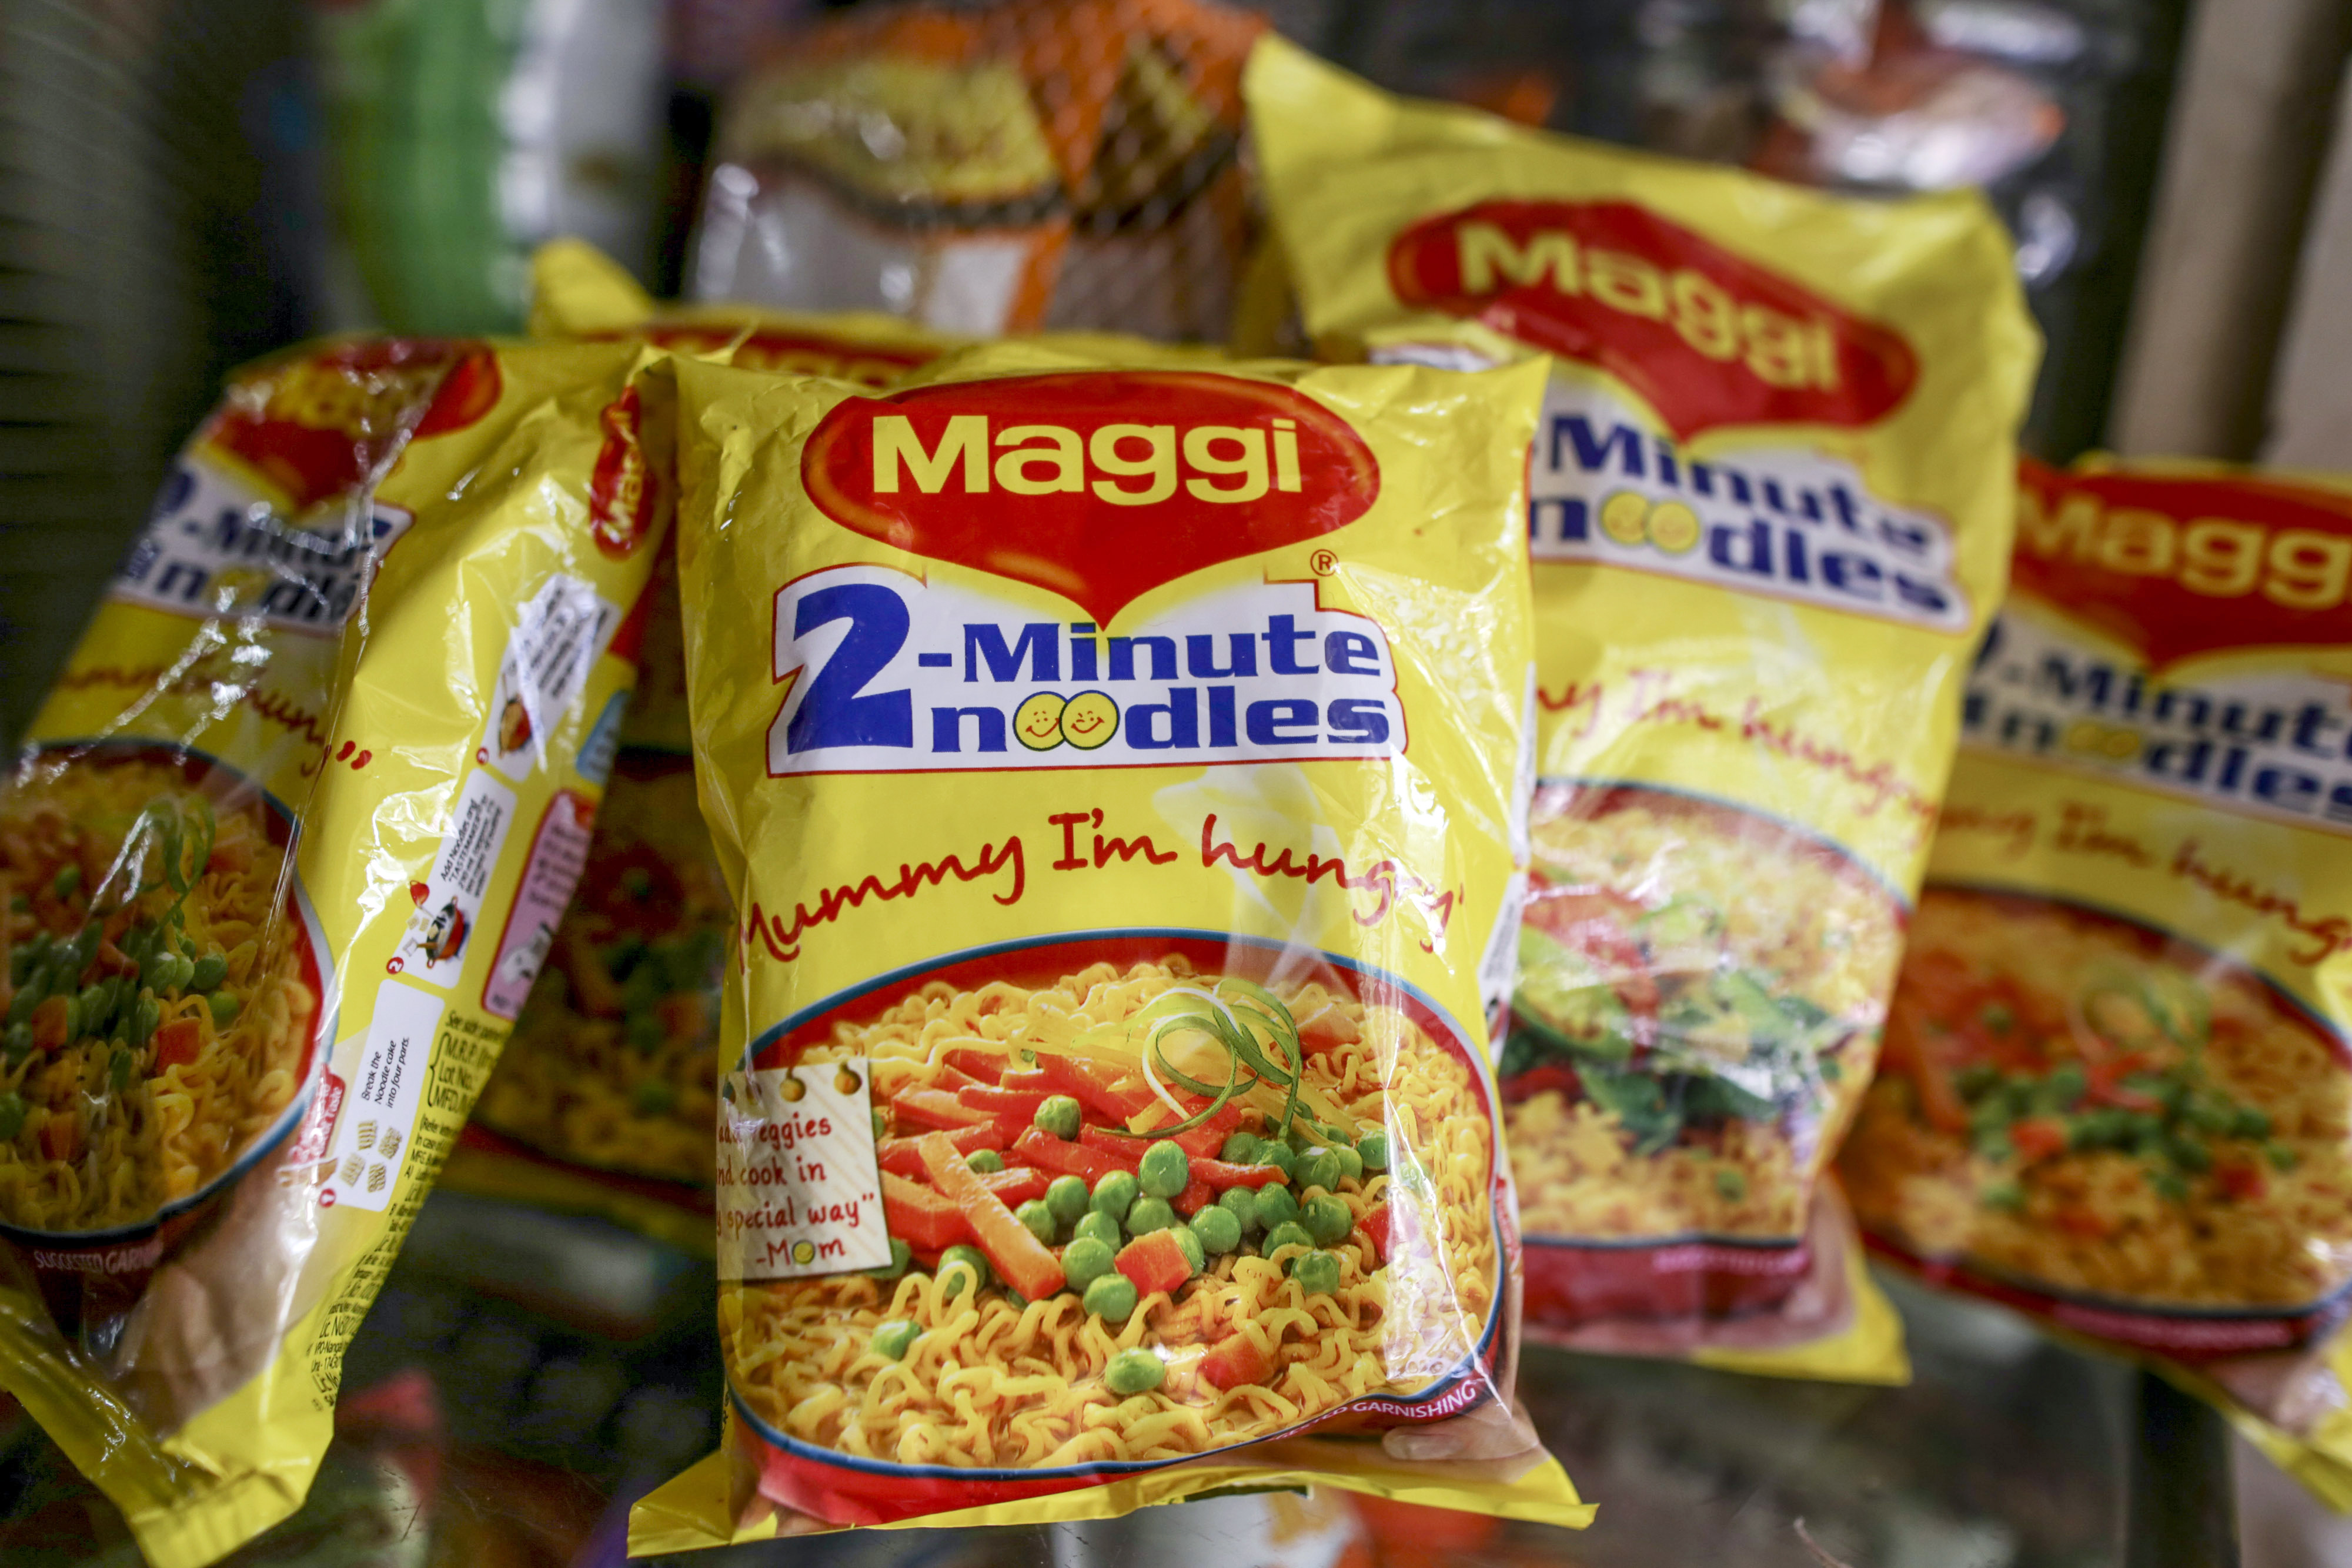maggi: (663, 374, 1596, 1535)
